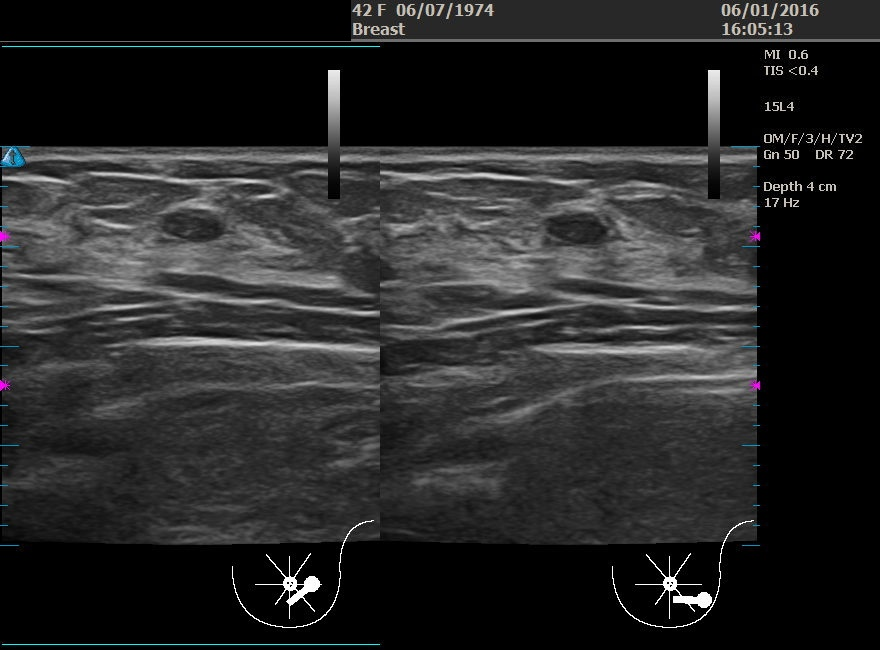BIRADS_2: (82, 162, 282, 362), (425, 154, 625, 354)
